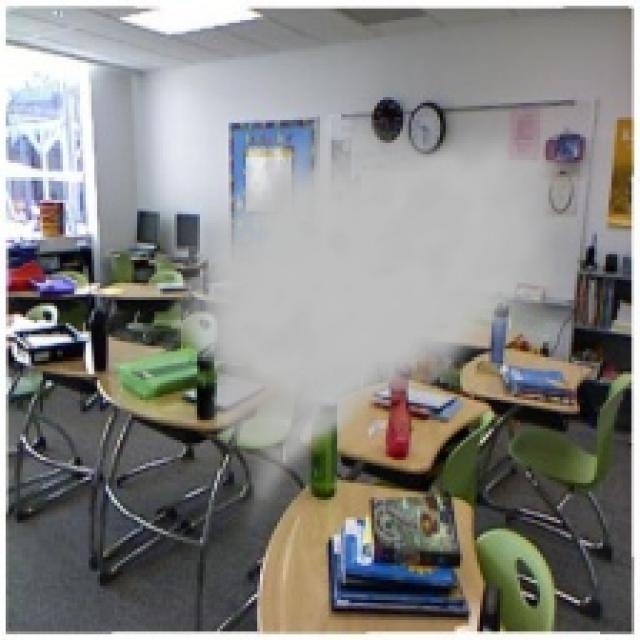smoke: (157, 111, 583, 534)
